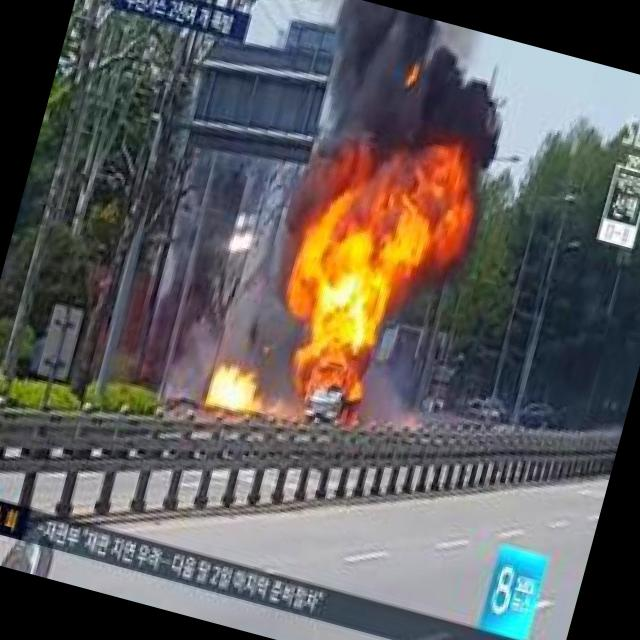Fire: (242, 106, 495, 446), (202, 364, 258, 414)
Smoke: (314, 0, 532, 161)
